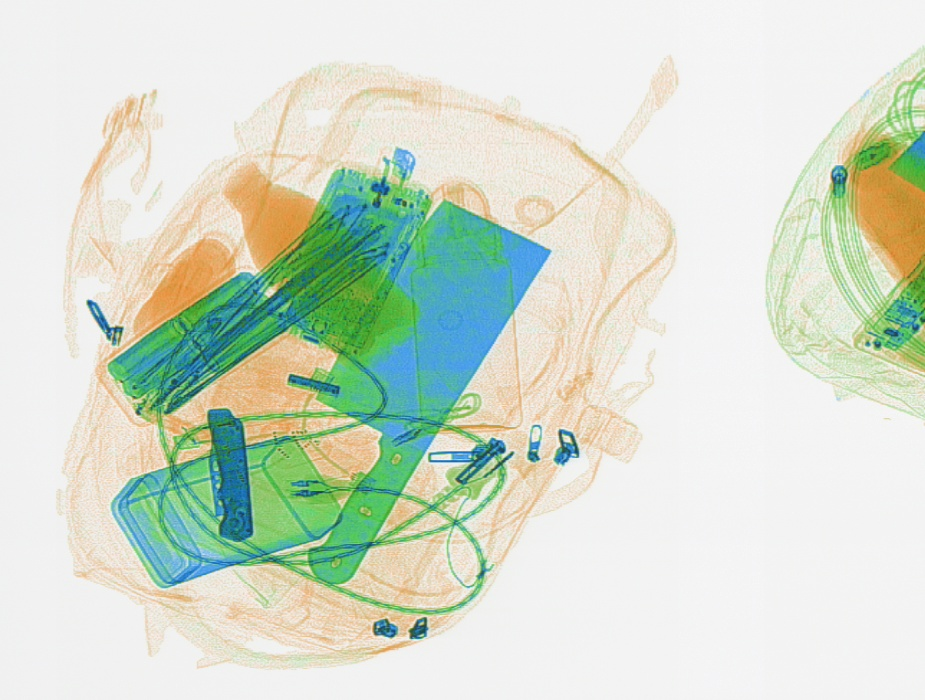knife: (305, 196, 553, 584), (202, 403, 253, 544)
lighter: (357, 141, 412, 262)
powerbank: (92, 261, 273, 425)
